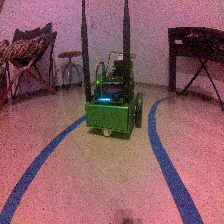rob: (83, 58, 144, 137)
